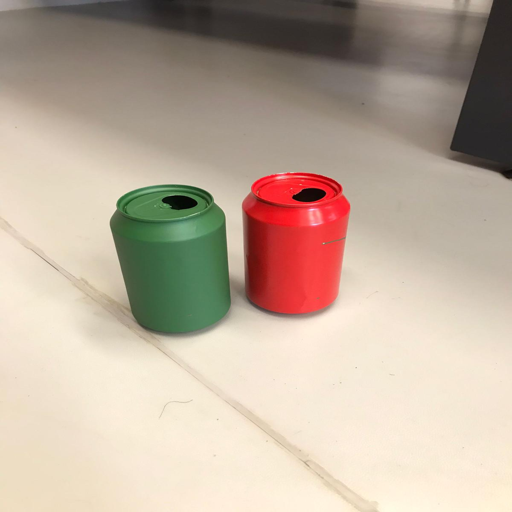Green_Can: (106, 181, 232, 334)
Red_Can: (239, 170, 352, 316)
